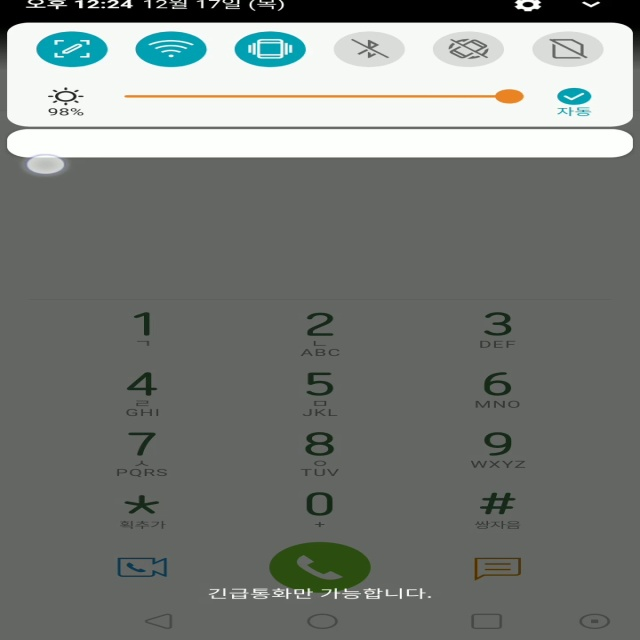Cursor: (24, 153, 69, 175)
